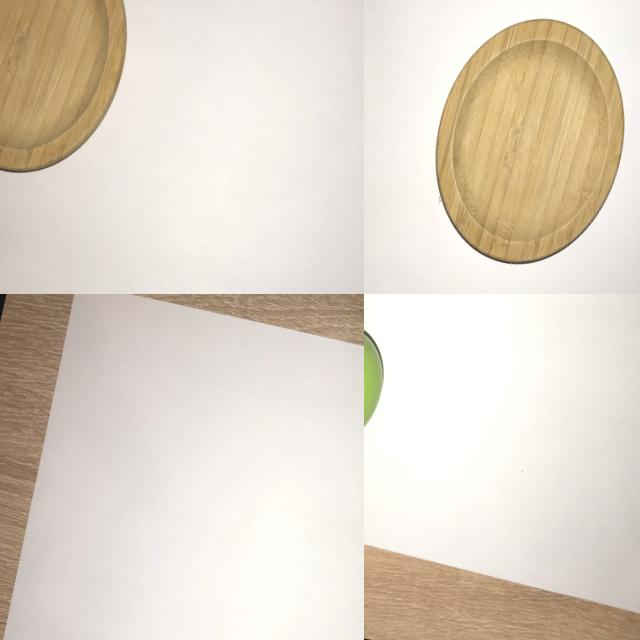cup_holder: (403, 0, 640, 293), (0, 0, 165, 204)
toy: (364, 303, 402, 462)
